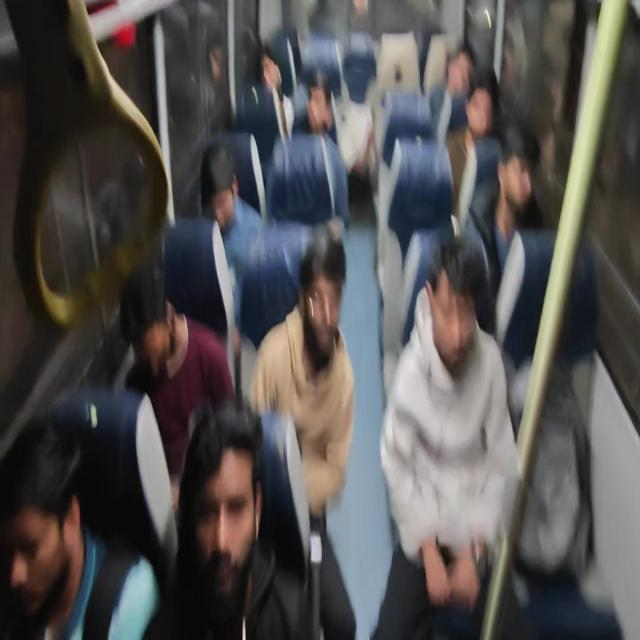person: (3, 1, 620, 637), (371, 235, 522, 638), (6, 0, 170, 331), (248, 224, 356, 637), (142, 400, 312, 638), (2, 416, 161, 638), (465, 120, 599, 370), (118, 262, 236, 507), (163, 141, 254, 394), (264, 64, 351, 230), (456, 64, 504, 231), (259, 46, 295, 145)
